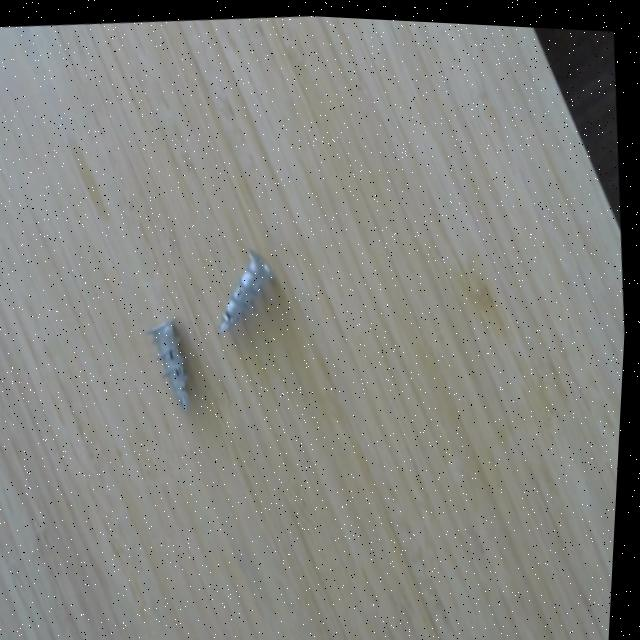Short screw: (212, 232, 287, 343), (145, 307, 201, 420)
